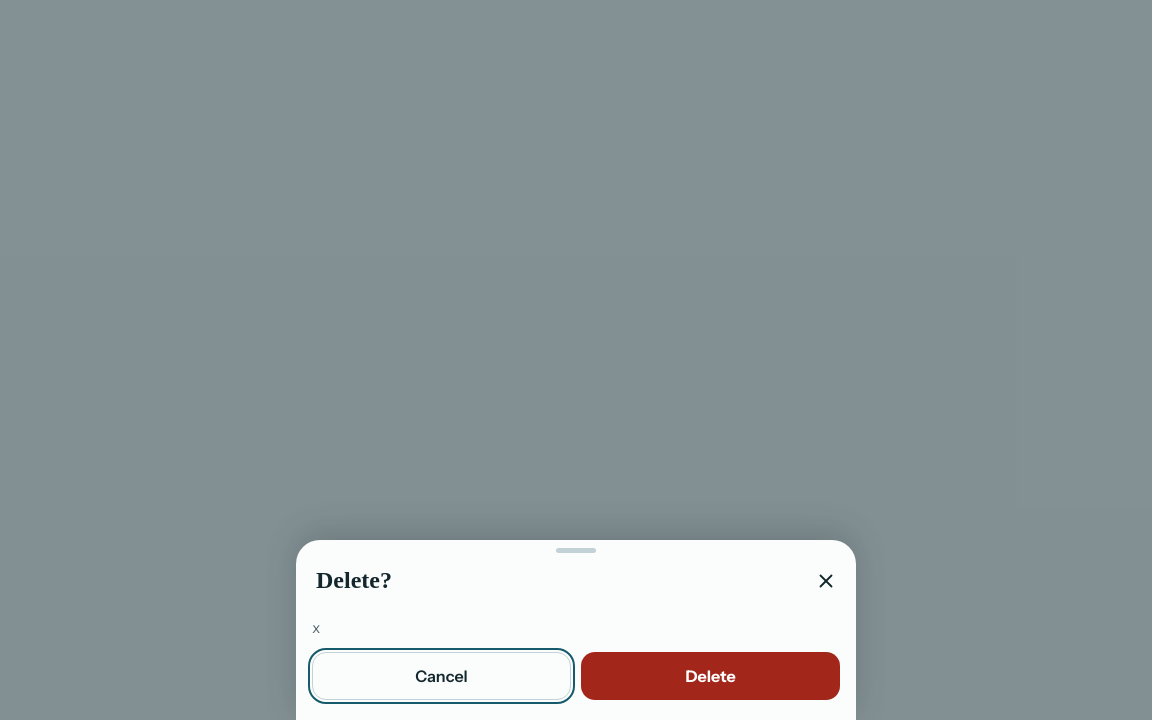
Test: ConfirmSheet › shows a failure
Click the button "Delete" at (710, 676), box top-left (581, 652), bottom-right (840, 700)
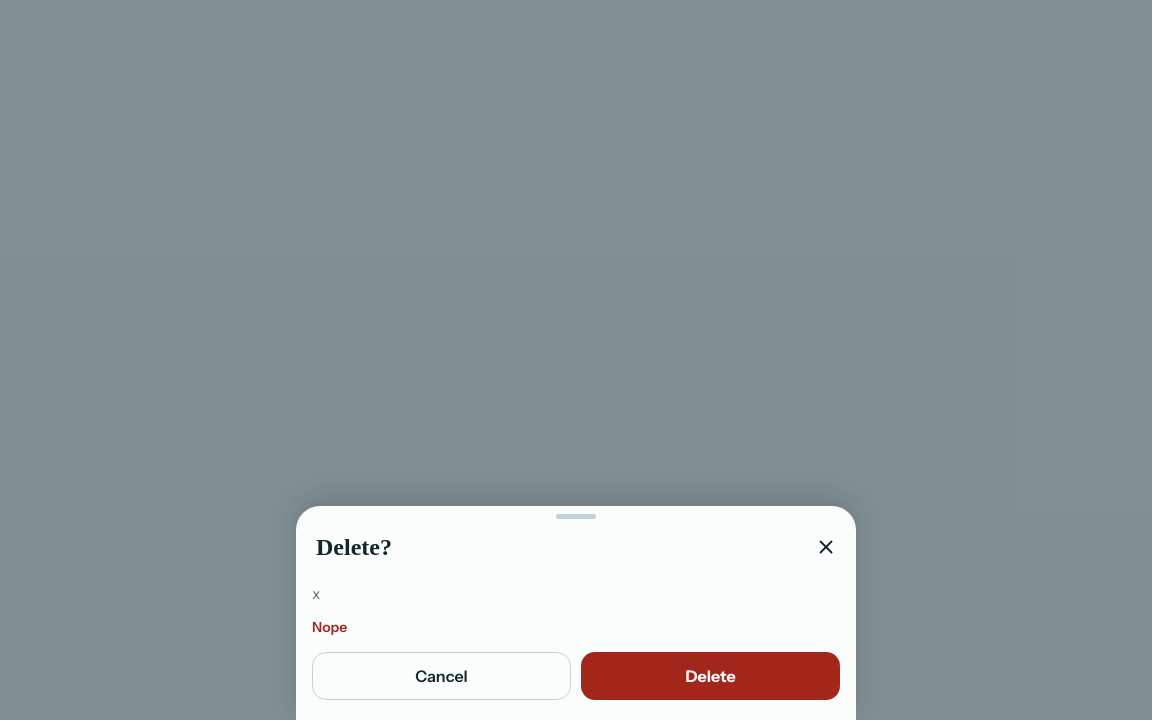
Check: the message reads "Nope", box top-left (312, 618), bottom-right (347, 636)
